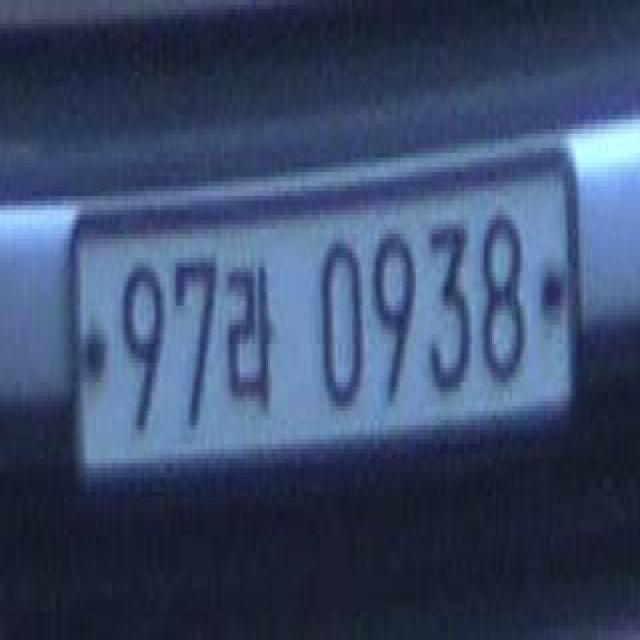0: (317, 234, 366, 416)
3: (424, 216, 474, 400)
7: (170, 243, 216, 428)
8: (478, 206, 528, 396)
9: (369, 218, 418, 400), (116, 257, 166, 434)
la: (222, 250, 280, 423)
license_plate: (75, 148, 578, 495)
